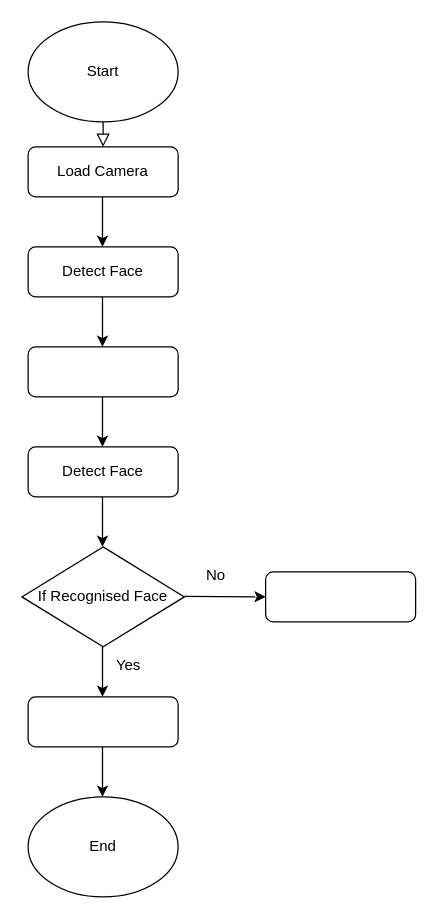
Some shapes in this 438 by 919 pixel diagram are drawn without their labels. The centre of each missing label's shape, as x and y in pixels:
"Image Preprocessing" belongs at pixel 102 371.
"Keep Door Locked" belongs at pixel 340 596.
"Open Door Lock" belongs at pixel 102 721.
